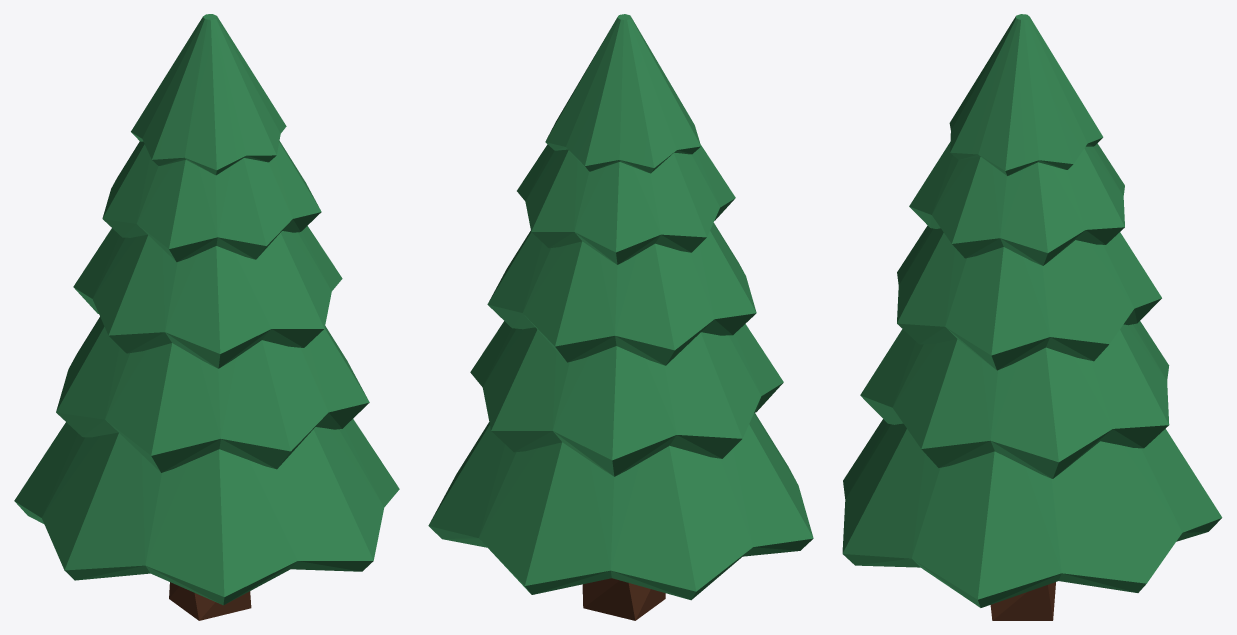
Rendered from FH_Pine3.fbx.
The picture shows the model from 3 angles, left to right: view 1: azimuth 30°, elevation 25°; view 2: azimuth 150°, elevation 25°; view 3: azimuth 270°, elevation 25°; orthographic projection.
Parts seen in each view (by area): view 1: Cube.007; view 2: Cube.007; view 3: Cube.007.
Boxes of the visible parts, left/top/right/bottom form: Cube.007: left=14, top=14, right=399, bottom=620; Cube.007: left=428, top=14, right=813, bottom=620; Cube.007: left=842, top=14, right=1222, bottom=620.
Size of the model in its own units: 1414 by 2367 by 1379.
